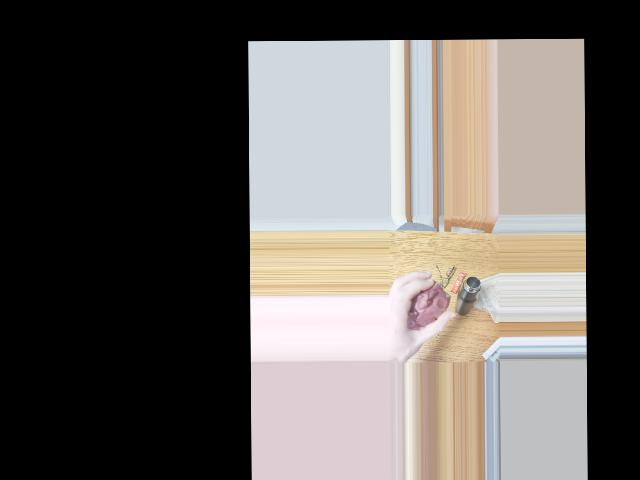onion: (407, 280, 444, 329)
